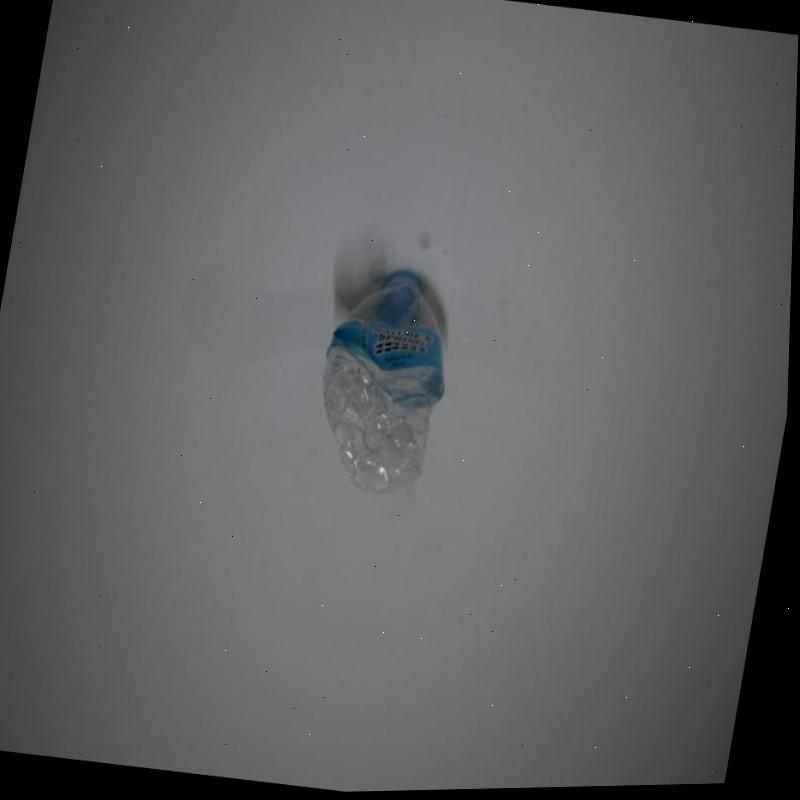botella: (305, 261, 464, 499)
